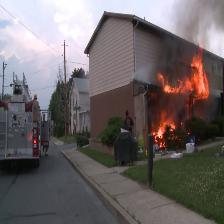fire: (135, 49, 224, 160)
nofire: (29, 123, 43, 159)
smoke: (150, 0, 224, 72)
